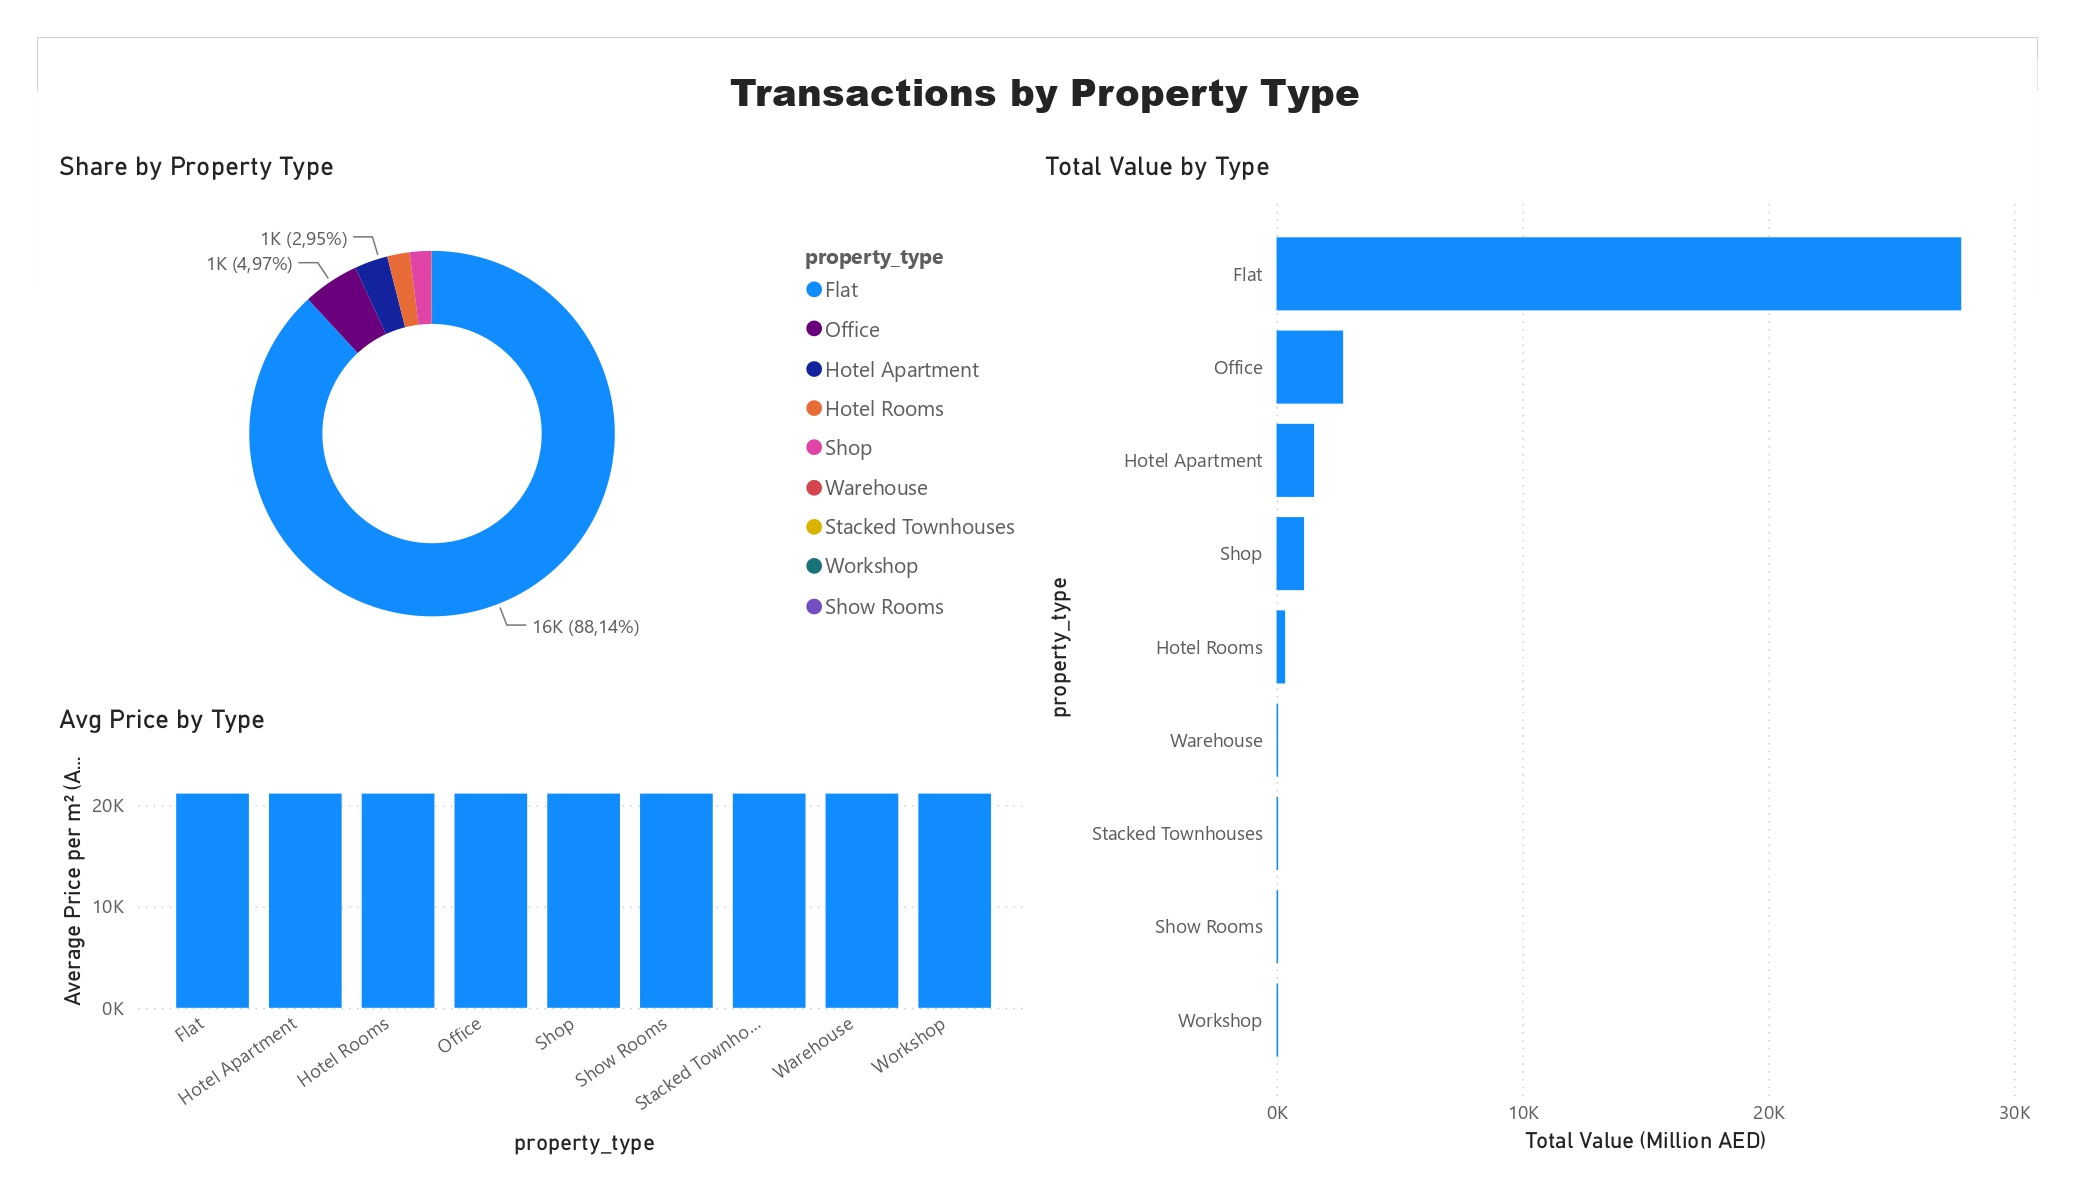

Layout of this report page (visuals, bound fields, positions):
{"tool":"powerbi","page":{"name":"3: Property Type Analysis","canvas":[1280,720],"ordinal":2},"visuals":[{"type":"textbox","box":[9.2,12.9,1270.8,44.1],"z":0},{"type":"donutChart","title":"Share by Property Type\t","fields":{"Category":["03_By_Property_Type.property_type"],"Y":["Sum(03_By_Property_Type.total_count)"]},"box":[9.2,71.7,630.8,343.9],"z":1},{"type":"clusteredColumnChart","title":"Avg Price by Type","fields":{"Category":["03_By_Property_Type.property_type"],"Y":["Avg(02_Price_By_Area.avg_price_per_sqm)"]},"box":[9,426,631,294],"z":2},{"type":"clusteredBarChart","title":"Total Value by Type","fields":{"Category":["03_By_Property_Type.property_type"],"Y":["Sum(03_By_Property_Type.total_value_million_aed)"]},"box":[640,71.7,640,647.4],"z":3}]}

Visuals, with their boxes on the page's 1280x720 design canvas (x1, y1, x2, y2). These are canvas units, not pixel positions in the 2075x1200 screenshot, which may show the page scaled, cropped or inside an application window:
textbox: [9, 13, 1280, 57]
"Share by Property Type	" donutChart: [9, 72, 640, 416]
"Avg Price by Type" clusteredColumnChart: [9, 426, 640, 720]
"Total Value by Type" clusteredBarChart: [640, 72, 1280, 719]
